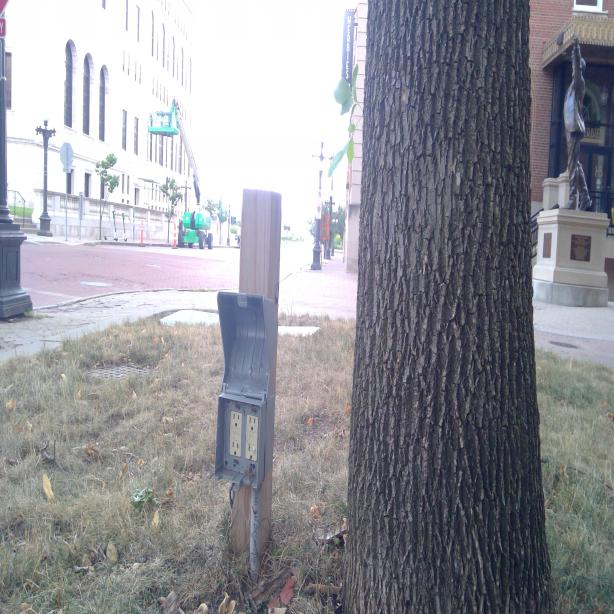typeb: (245, 413, 257, 434), (230, 410, 242, 430), (246, 442, 256, 463), (229, 440, 241, 457)
